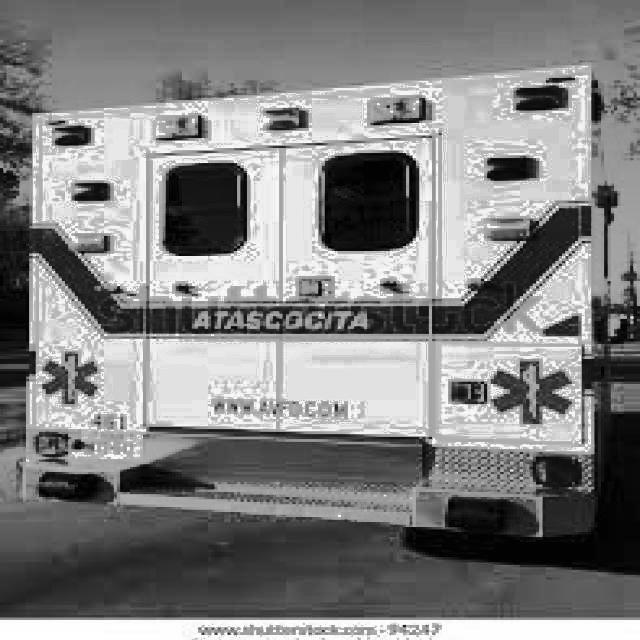LCV: (27, 64, 595, 513)
